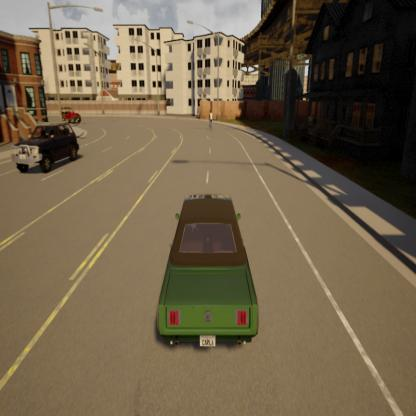Cars: (153, 184, 264, 356), (8, 121, 83, 178), (56, 106, 83, 128)
